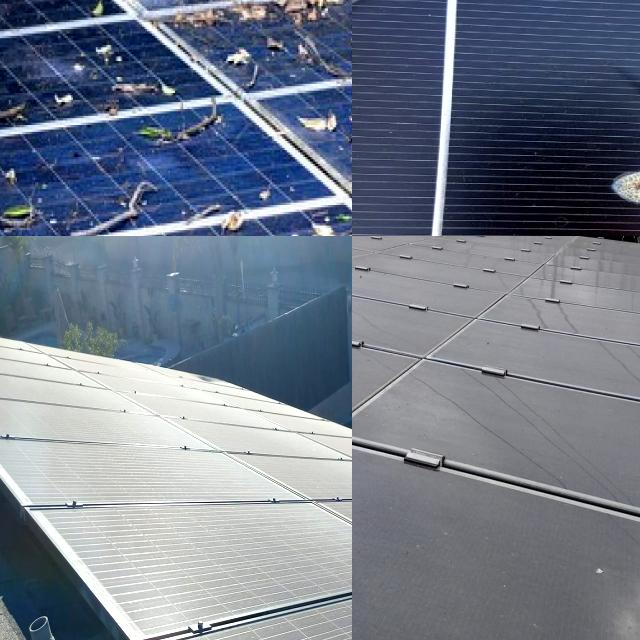dust: (62, 419, 267, 488), (94, 496, 206, 614), (226, 503, 352, 576), (352, 478, 407, 640), (564, 542, 640, 640), (80, 370, 206, 426), (0, 347, 56, 471), (282, 414, 352, 508), (257, 618, 352, 640)
shadow: (582, 124, 640, 233)
